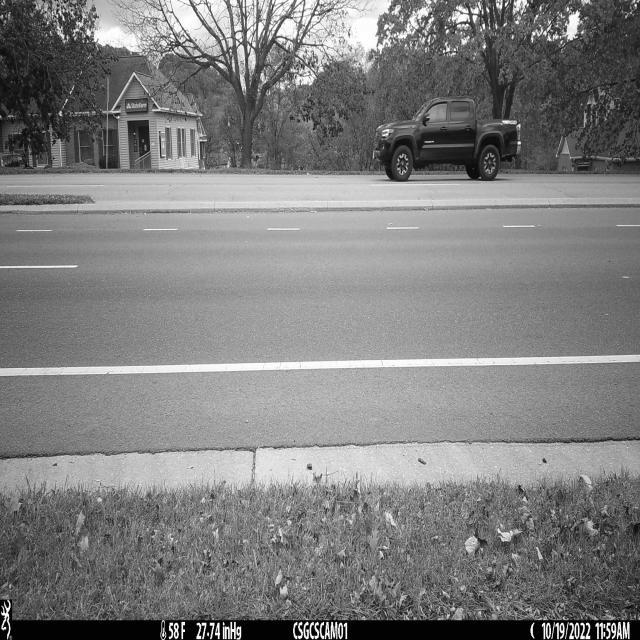Pickup: (375, 96, 522, 182)
